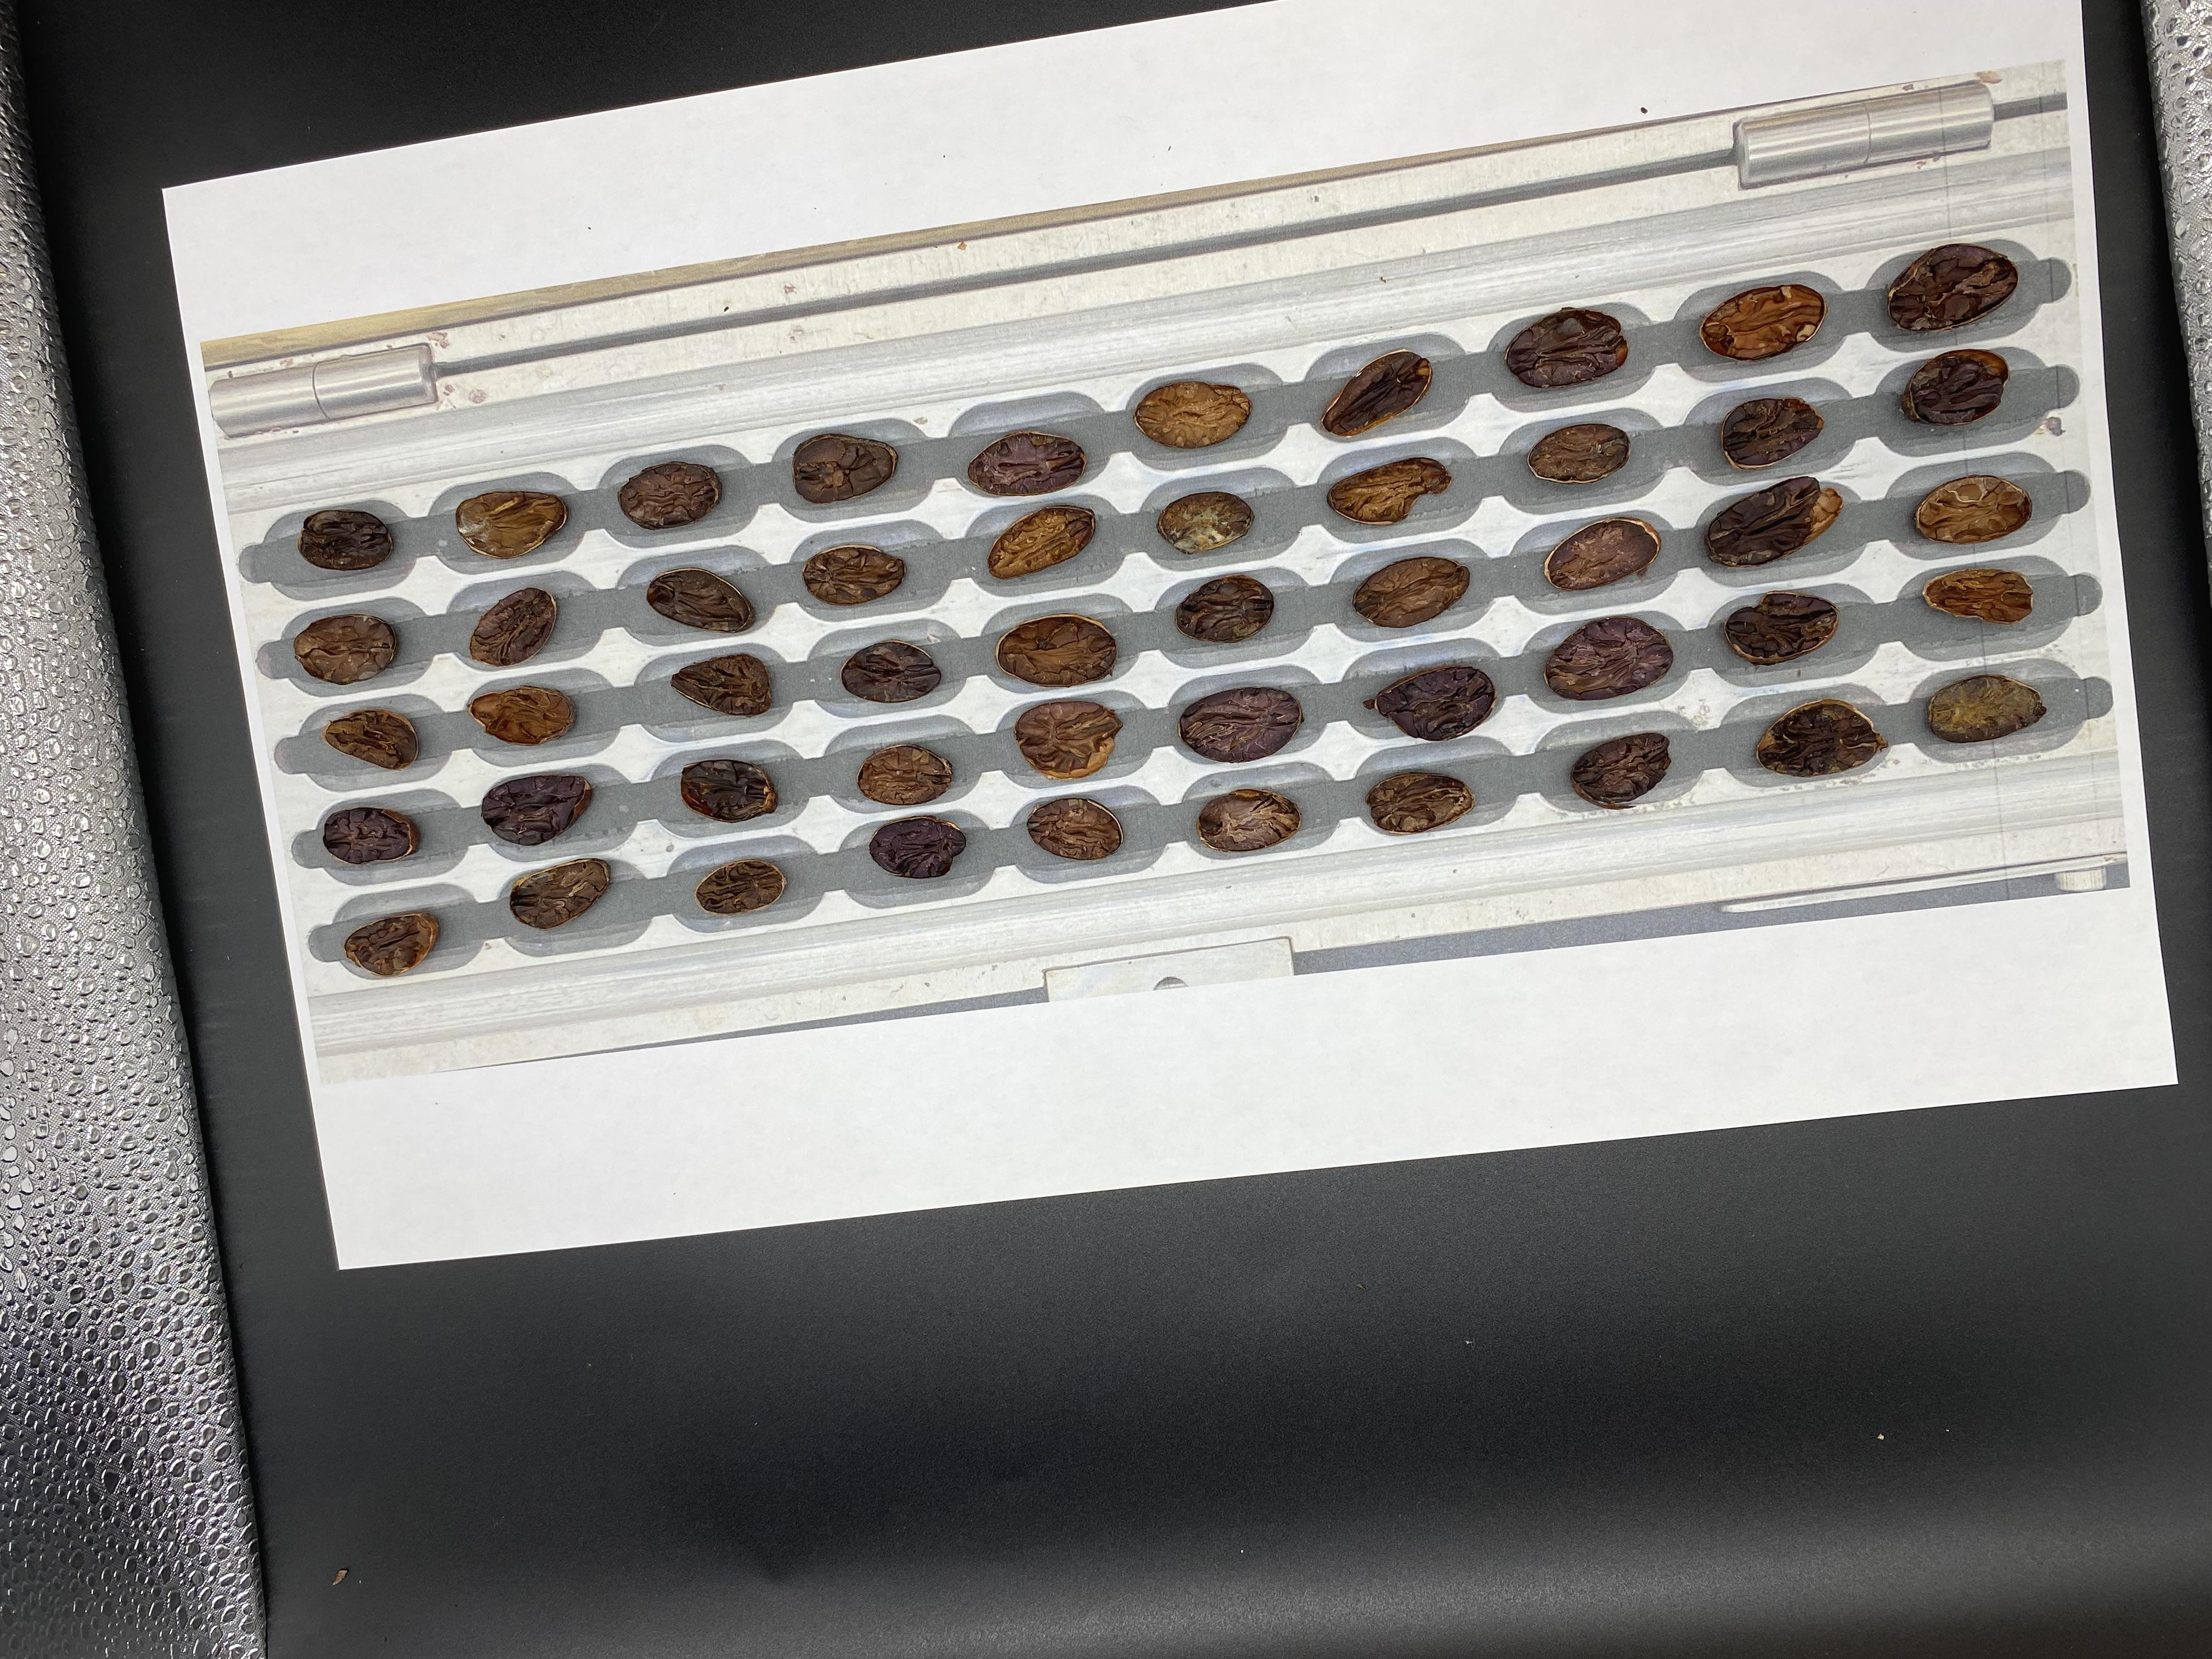Brown - G1: (1947, 958, 2022, 1004), (1599, 1171, 1662, 1215), (2062, 1101, 2127, 1140), (1493, 1091, 1555, 1127), (1778, 1206, 1839, 1243)
Brown - G2: (1759, 1046, 1829, 1087), (1587, 1072, 1651, 1114), (2059, 1058, 2125, 1098), (1425, 1147, 1486, 1188), (1322, 1162, 1392, 1199), (1261, 1276, 1320, 1316), (1606, 1220, 1663, 1258)
Brown - G3: (1658, 1004, 1728, 1053), (1771, 1096, 1841, 1140), (1397, 1044, 1461, 1091), (1594, 1126, 1658, 1169), (1233, 1126, 1294, 1169), (1343, 1251, 1404, 1293), (1324, 1112, 1376, 1159), (1695, 1215, 1756, 1251), (1522, 1190, 1576, 1230), (1251, 1175, 1306, 1213)
Brown - G4: (1864, 1028, 1921, 1066)
Insect-damaged: (2064, 1155, 2132, 1199)
Mouldy: (1318, 1061, 1383, 1107), (1672, 1065, 1730, 1103)
Partly Purple - G1: (1963, 1115, 2027, 1159), (1959, 1012, 2019, 1060)
Partly Purple - G2: (1869, 1127, 1942, 1176), (1848, 969, 1919, 1018)
Partly Purple - G3: (1578, 1032, 1644, 1072)
Partly Purple - G4: (1872, 1077, 1935, 1124)
Total Purple - G3: (1683, 1161, 1754, 1209), (1778, 1152, 1853, 1197), (1249, 1223, 1306, 1262), (1527, 1232, 1583, 1269)
Very Dark Brown - G1: (1951, 1058, 2029, 1110), (1977, 1169, 2050, 1215), (2048, 992, 2114, 1040), (1440, 1249, 1493, 1288)
Very Dark Brown - G2: (2043, 939, 2118, 992), (1754, 990, 1824, 1042), (1329, 1206, 1393, 1249), (1883, 1185, 1940, 1232), (1681, 1107, 1742, 1148), (1430, 1199, 1487, 1241), (1238, 1073, 1294, 1112)
Very Dark Brown - G3: (1487, 1033, 1548, 1077), (1416, 1101, 1477, 1141), (1512, 1140, 1571, 1180)
